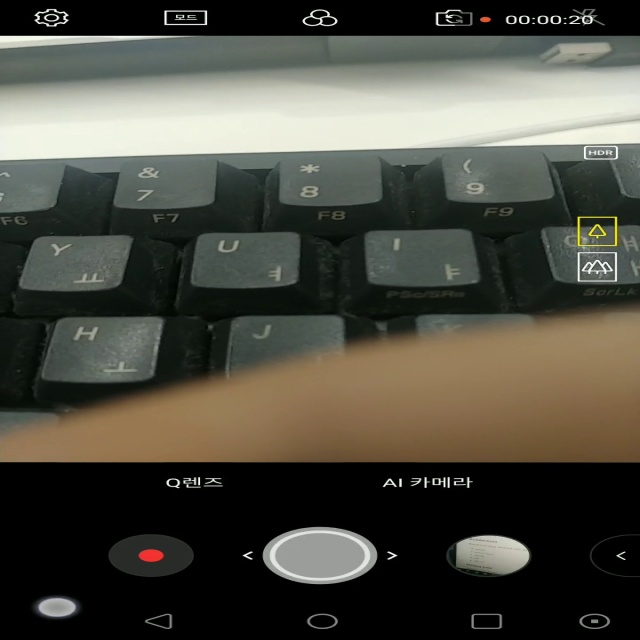Cursor: (35, 597, 80, 620)
